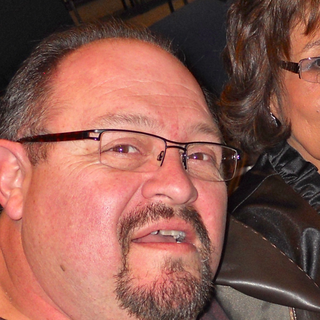eye: (98, 138, 147, 162), (182, 147, 213, 167)
